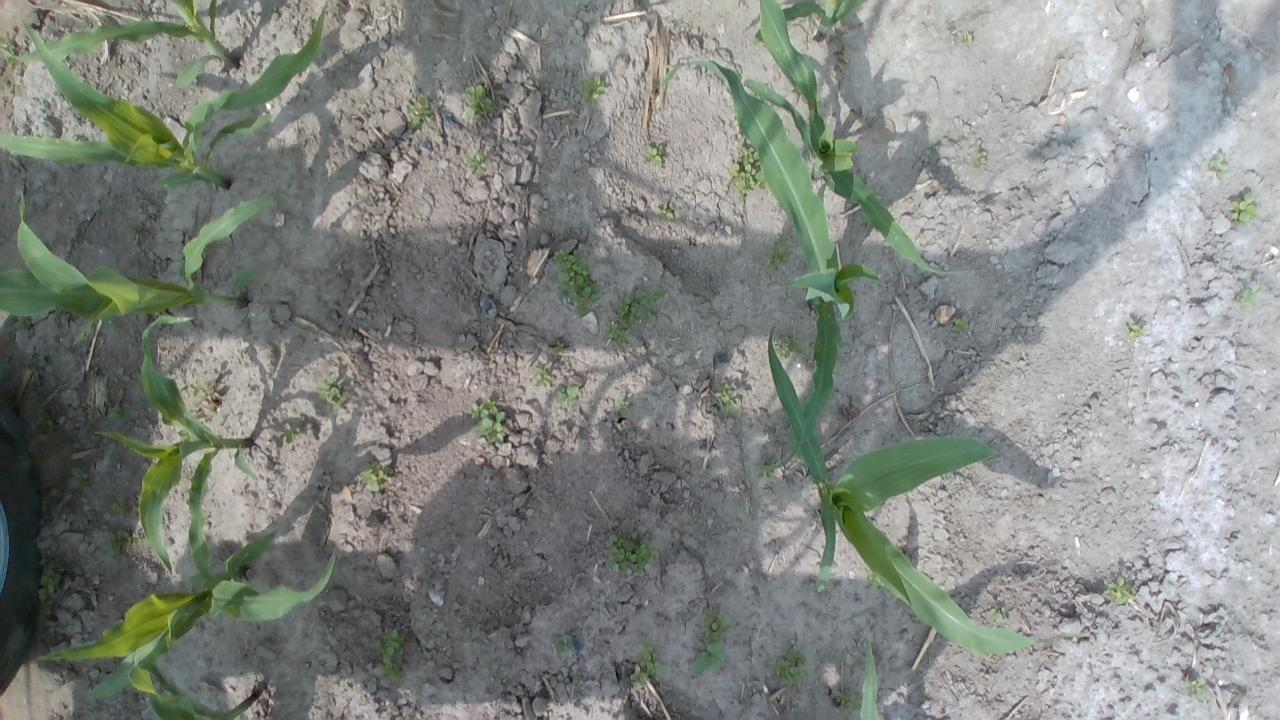Maize: (766, 324, 1089, 658), (660, 56, 884, 452), (0, 0, 328, 185), (744, 0, 950, 277), (33, 536, 338, 720), (0, 188, 279, 352), (92, 310, 262, 574), (0, 0, 238, 87), (125, 655, 258, 720), (752, 0, 864, 42), (848, 632, 882, 720)
Weeds: (552, 246, 603, 315), (691, 610, 732, 677), (726, 143, 766, 201), (604, 531, 657, 574), (615, 286, 664, 326), (373, 630, 405, 684), (630, 636, 666, 684), (772, 648, 812, 688), (470, 397, 504, 444), (316, 375, 350, 418), (1228, 190, 1258, 227), (776, 330, 810, 362), (578, 72, 608, 108), (764, 232, 792, 270), (360, 461, 392, 493), (406, 94, 436, 128), (464, 82, 493, 116), (105, 530, 144, 555), (714, 382, 744, 414), (833, 685, 862, 714), (1106, 576, 1134, 606), (1233, 281, 1261, 310), (604, 320, 631, 346), (550, 631, 576, 656), (1208, 153, 1230, 180), (864, 562, 885, 589), (556, 384, 579, 408), (68, 467, 90, 492), (642, 142, 664, 166), (464, 151, 490, 171), (0, 33, 16, 62), (756, 459, 778, 480), (190, 378, 214, 397), (282, 421, 303, 442), (533, 365, 553, 387), (1188, 678, 1206, 701), (106, 405, 131, 421), (654, 202, 674, 221), (614, 398, 632, 419), (986, 605, 1006, 623), (1126, 320, 1144, 340), (108, 503, 130, 518), (13, 314, 32, 330), (972, 148, 988, 166), (177, 427, 196, 442), (129, 220, 144, 237), (952, 316, 969, 330), (960, 31, 974, 46), (553, 341, 565, 352), (928, 139, 939, 148), (530, 235, 538, 246)
